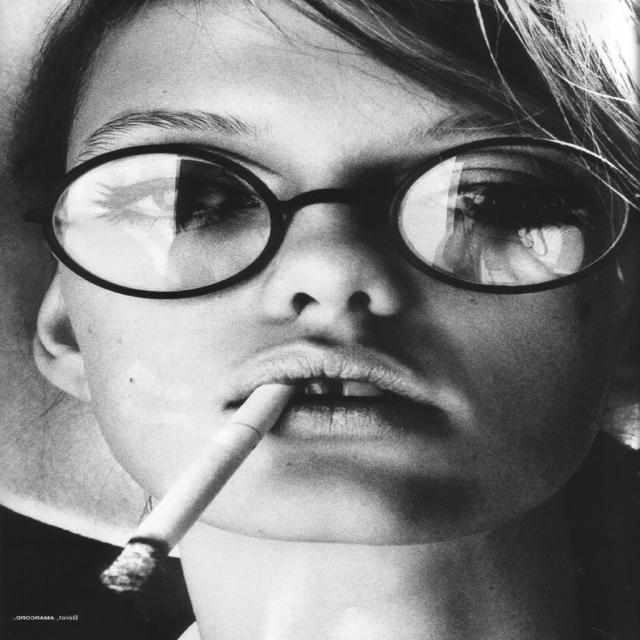smoking: (24, 0, 640, 602)
